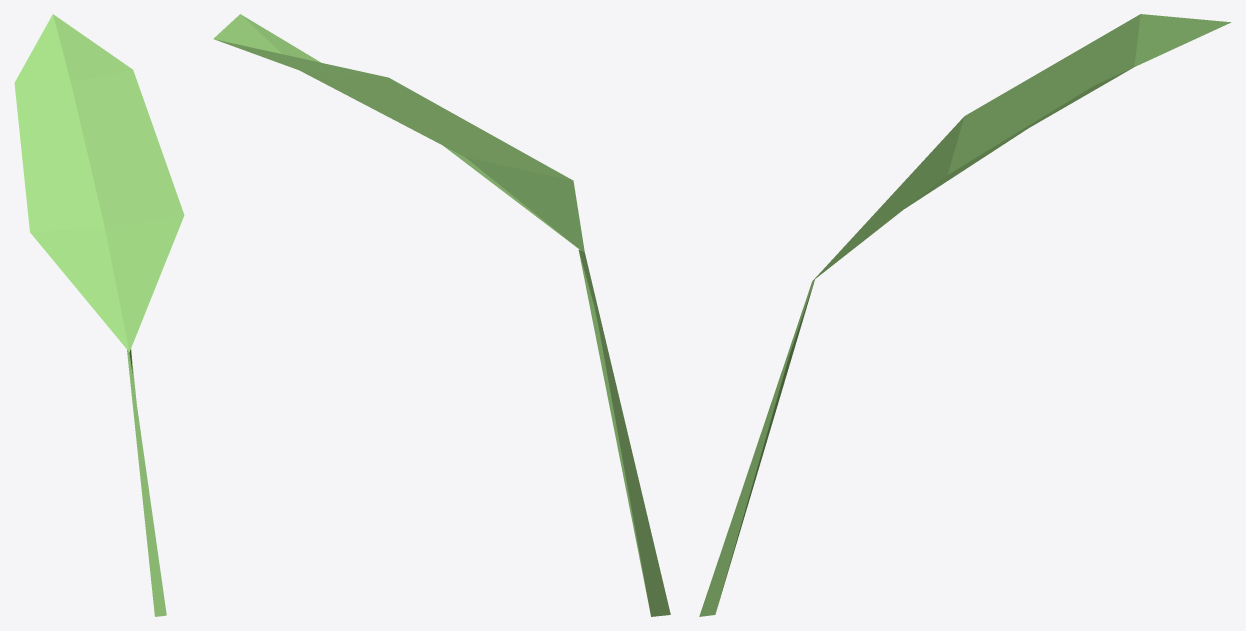
The model's file is Plant_j_OneS_06.fbx.
The picture shows the model from 3 angles, left to right: view 1: azimuth 30°, elevation 25°; view 2: azimuth 150°, elevation 25°; view 3: azimuth 270°, elevation 25°; orthographic projection. The views are drawn at different scales.
Visible parts, largest first — view 1: Plant_j_OneS_06; view 2: Plant_j_OneS_06; view 3: Plant_j_OneS_06.
Boxes of the visible parts, x1,y1,x2,y2 form: Plant_j_OneS_06: (14,14,184,616); Plant_j_OneS_06: (213,14,670,616); Plant_j_OneS_06: (699,14,1230,616).
Bounding box in the file's own units: 0.091 × 0.263 × 0.197.
